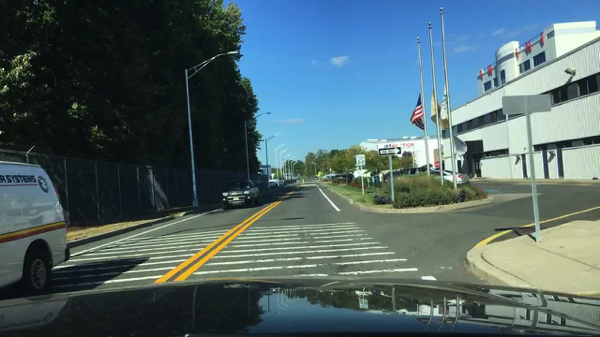car: (0, 161, 71, 295), (221, 179, 260, 209), (424, 171, 470, 191), (385, 168, 427, 184), (371, 171, 399, 183), (330, 174, 355, 183), (268, 180, 283, 186), (323, 175, 335, 181), (313, 176, 318, 180)
traffic sign: (502, 94, 551, 115), (378, 149, 401, 156), (355, 155, 364, 166), (434, 162, 439, 169), (317, 172, 321, 177)
